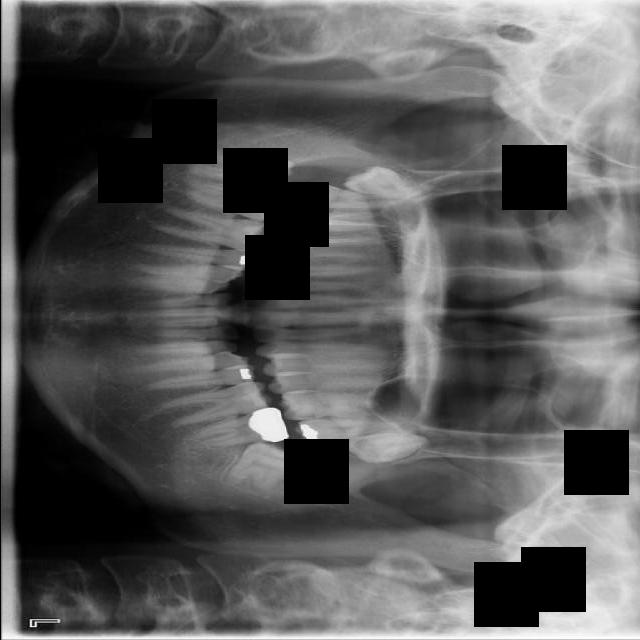3M ESPE Implant: (341, 159, 435, 208)
52: (244, 402, 290, 450), (268, 203, 320, 238), (291, 418, 338, 447), (289, 184, 341, 208), (222, 246, 257, 274), (256, 246, 298, 269), (262, 232, 307, 252), (227, 364, 256, 386), (301, 411, 315, 420)
73: (309, 206, 411, 235), (305, 231, 409, 249), (16, 624, 22, 630)
BioHorizons Implant: (291, 408, 416, 449)
BioLife Implant: (345, 430, 428, 464)
Biomet 3i Implant: (221, 429, 311, 509)
Blue Sky Bio Implant: (183, 406, 290, 451)
Caries: (289, 183, 405, 211)
Implant: (180, 178, 289, 225)
Keystone Dental Implant: (180, 145, 295, 194)
